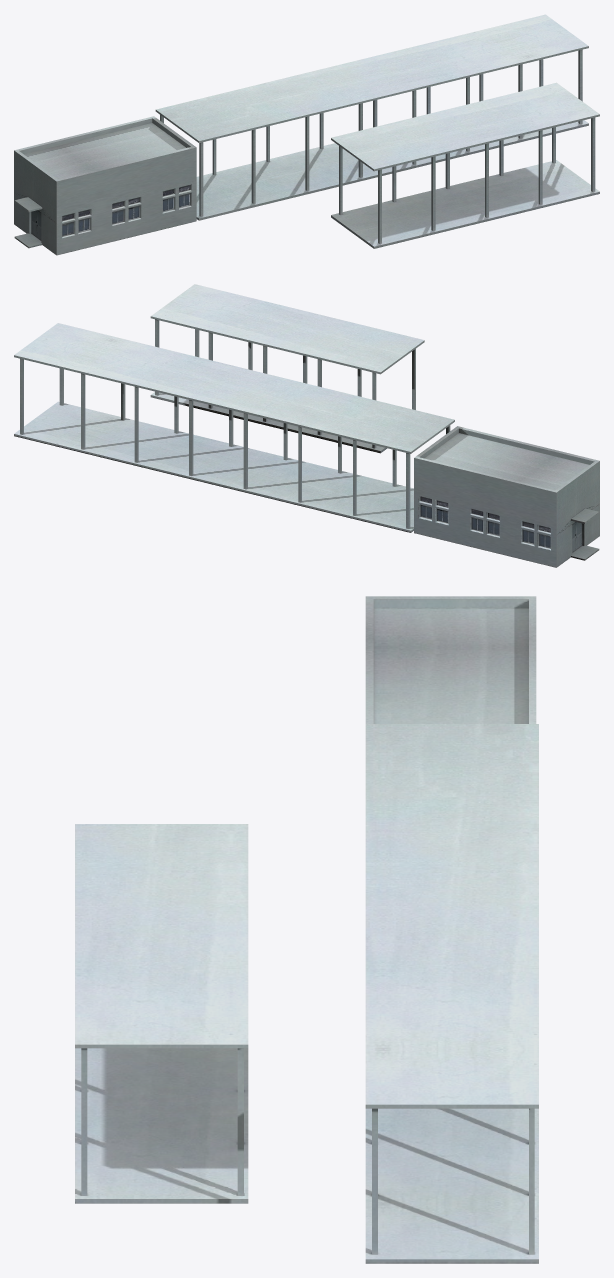
File: build1YNSCYQ.glb
The picture shows the model from 3 angles, top to bottom: view 1: azimuth 30°, elevation 25°; view 2: azimuth 150°, elevation 25°; view 3: azimuth 270°, elevation 25°; orthographic projection. The views are drawn at different scales.
Visible parts, largest first — view 1: build1YNSCYQ; view 2: build1YNSCYQ; view 3: build1YNSCYQ.
Part boxes in pixels (<box>): build1YNSCYQ: <box>14,14,599,255</box>; build1YNSCYQ: <box>14,284,599,567</box>; build1YNSCYQ: <box>75,596,538,1263</box>.
Size of the model in its own units: 4702 by 655 by 1730.
1 material, 1 textured.
